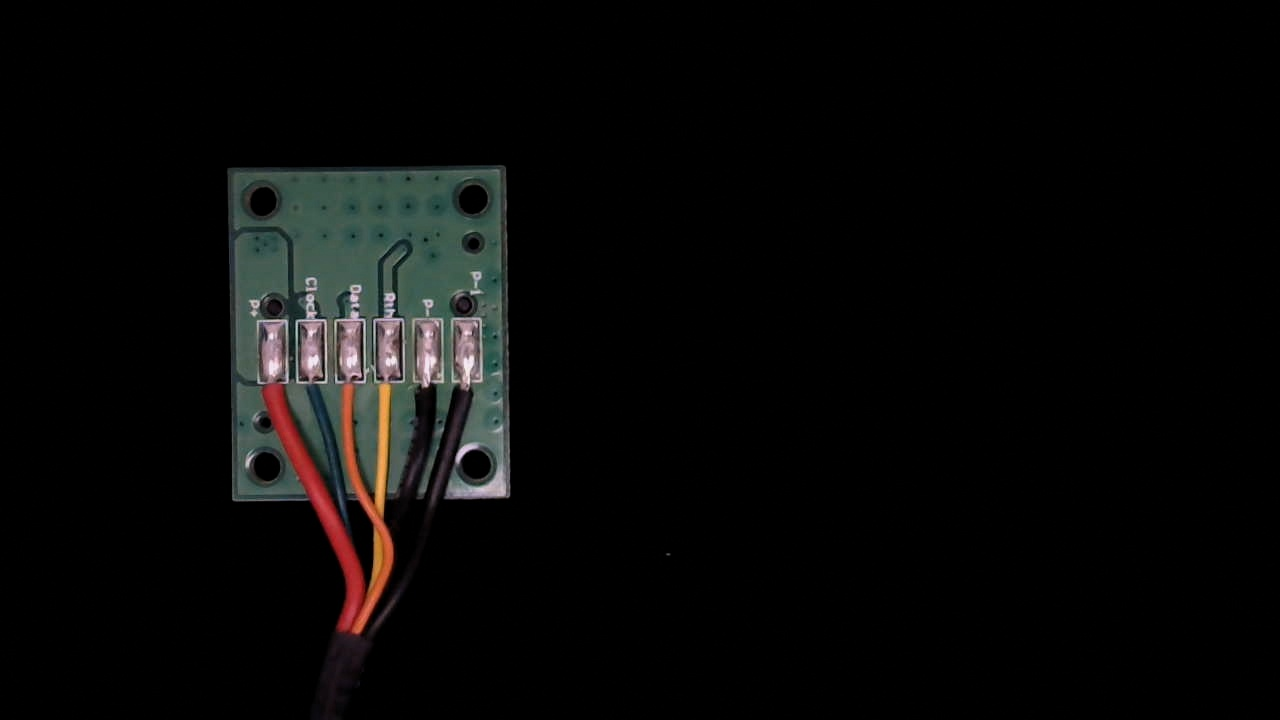Black: (412, 365, 442, 432)
Black1: (453, 366, 487, 434)
Green: (294, 361, 325, 425)
Orange: (333, 363, 364, 426)
Red: (253, 362, 288, 433)
Yellow: (374, 364, 402, 434)
